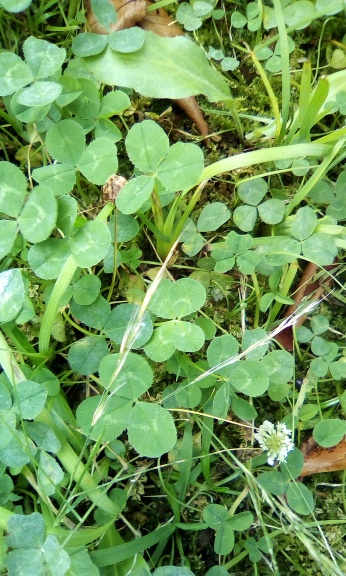4leaf: (141, 278, 206, 362)
